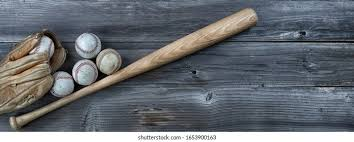baseball bat: (10, 6, 258, 130)
